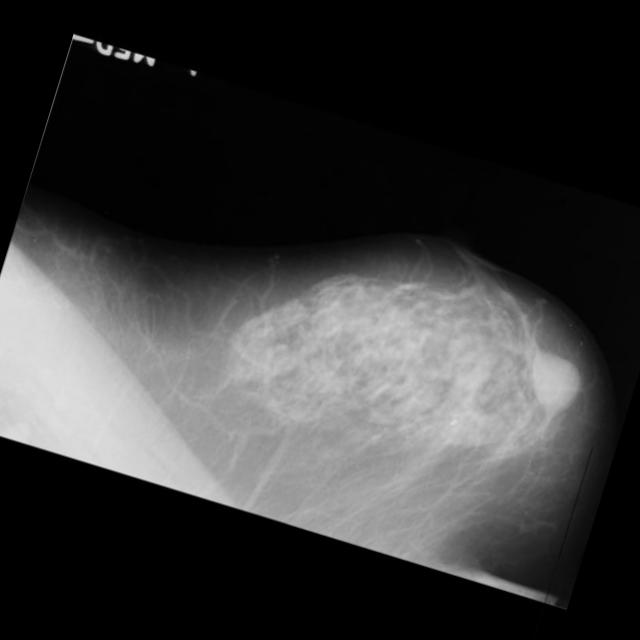CIRC: (516, 341, 594, 418)
